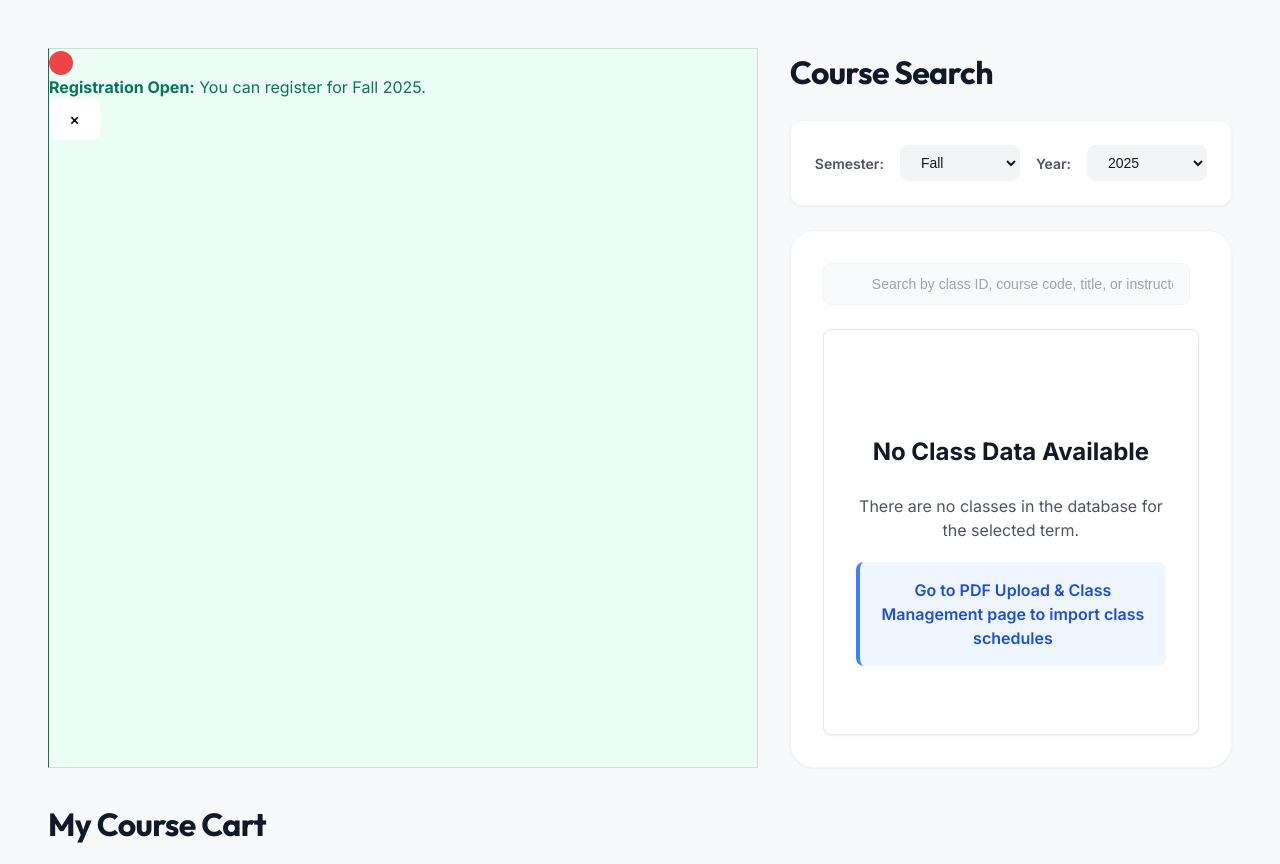
Test: CourseRegistration › time conflict confirm
Type "CSE102" into the field with placeholder "Search by class ID, course code, title, or instructor..." at (1006, 284), box [823,263,1190,305]
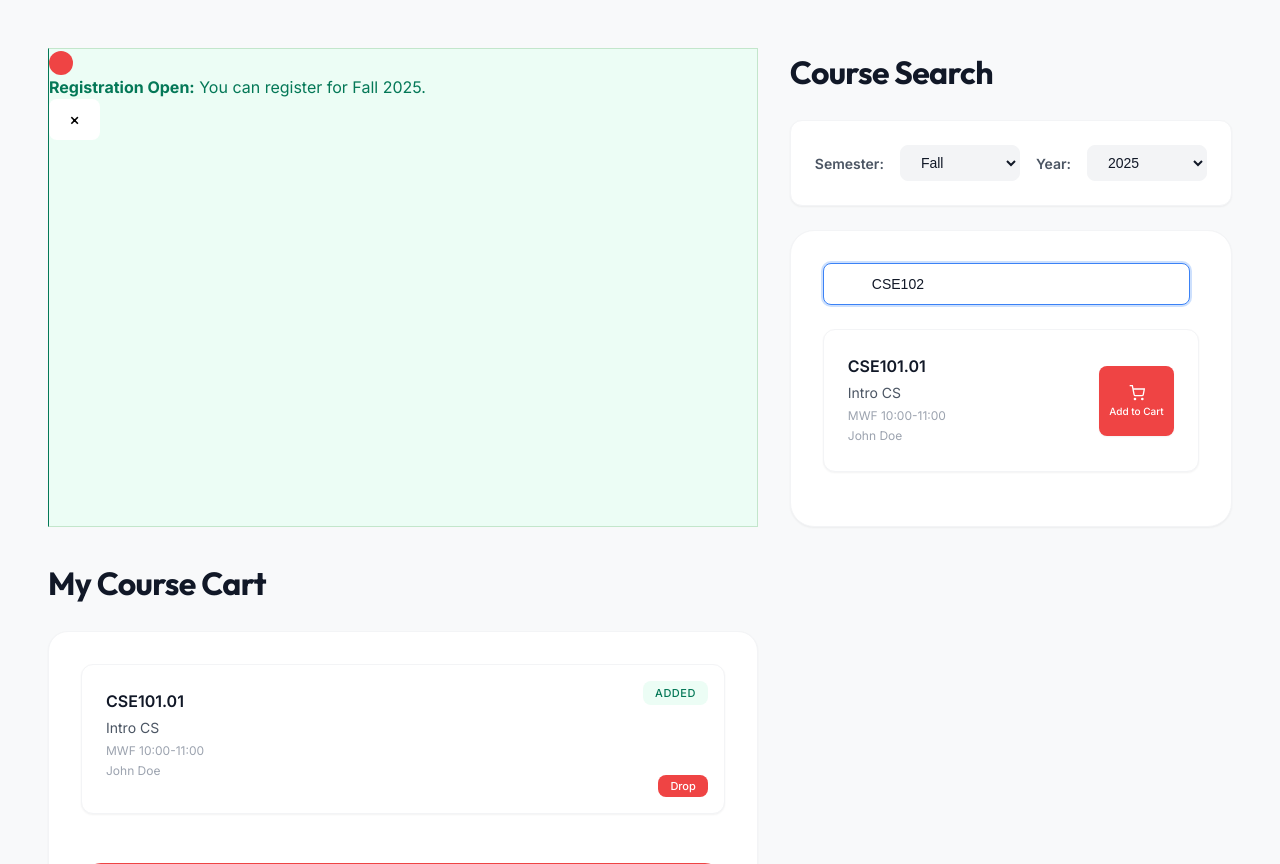
Click the button "Add to Cart" at (1136, 400), box [1099,366,1174,436]
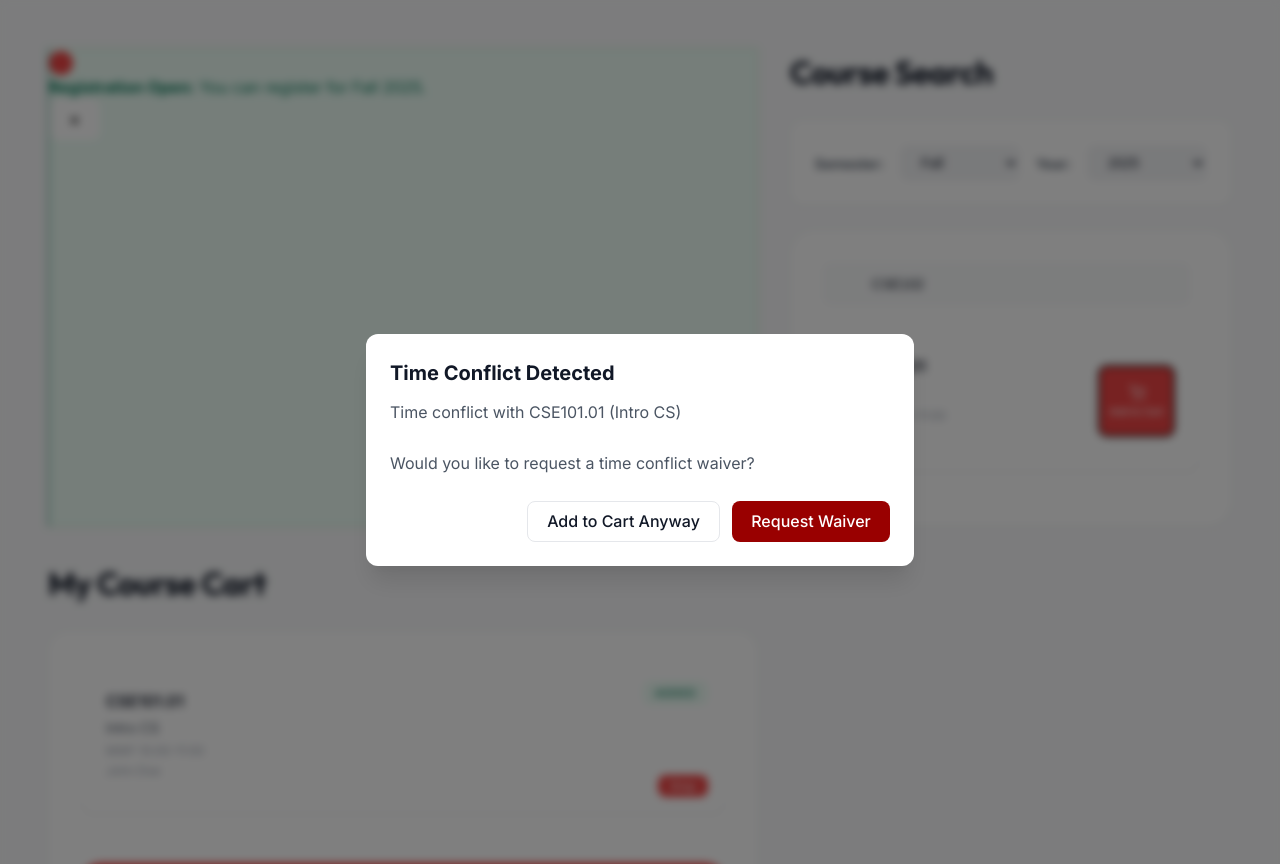
Check: the dialog "Time Conflict Detected" is shown, box [366,334,914,566]
